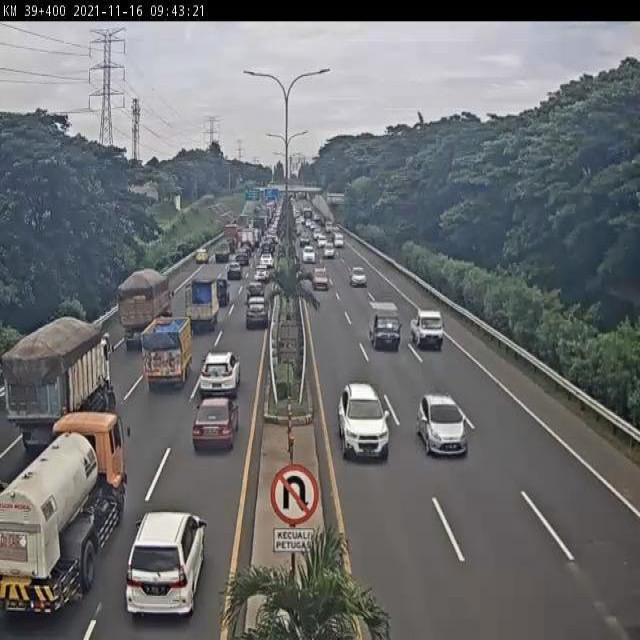car: (128, 508, 198, 637), (341, 371, 394, 452), (190, 392, 240, 463), (426, 399, 476, 447), (203, 337, 244, 395), (410, 307, 444, 351), (247, 296, 267, 333), (210, 279, 226, 315), (189, 244, 211, 267), (247, 278, 262, 306), (229, 252, 244, 279), (311, 260, 326, 283), (349, 265, 366, 284), (253, 269, 265, 292), (260, 253, 271, 271), (305, 242, 315, 258)
truck: (0, 405, 134, 611), (0, 313, 122, 460), (115, 267, 175, 359), (142, 317, 187, 396), (183, 272, 220, 333), (371, 304, 402, 352), (213, 243, 226, 264)
